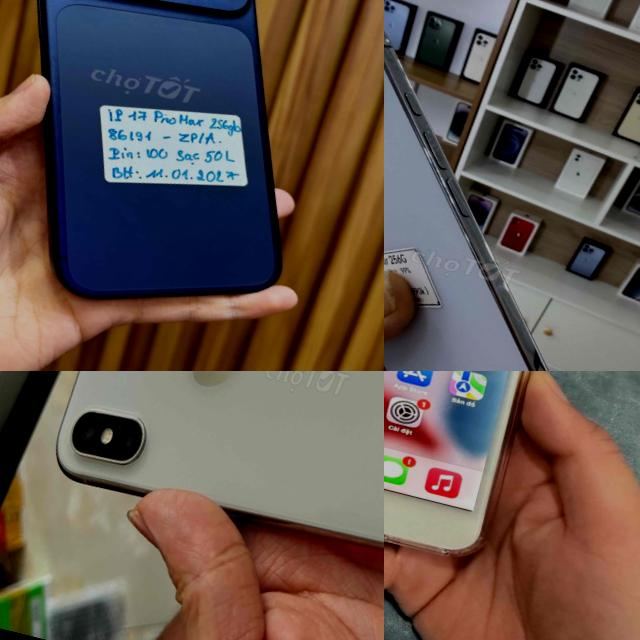gen_17: (0, 0, 369, 348), (384, 0, 640, 371)
gen_7_8: (384, 371, 525, 555)
gen_x_xs: (13, 371, 384, 620)
